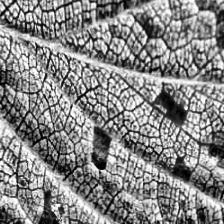Angular Leafspot: (0, 86, 224, 224)
